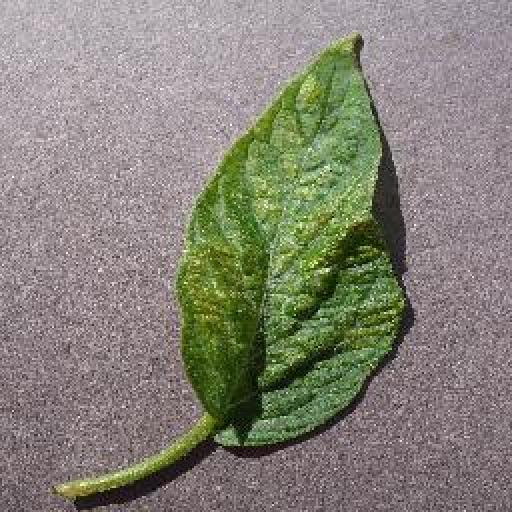Spider Mites: (179, 38, 405, 446)
